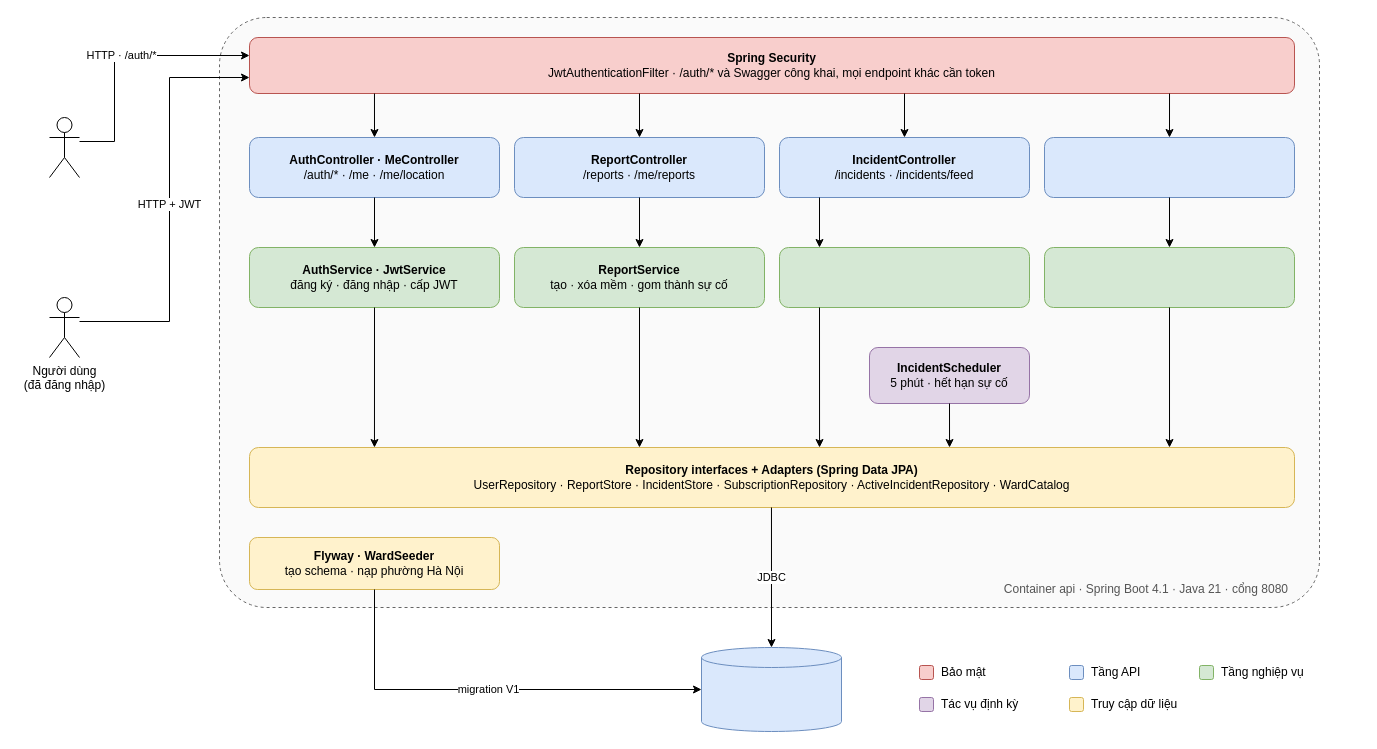
Image size: 1377x749. Some labels were removed from this diagram. The shapes that lost their labels are listed below. From the top down, each one's centre as x and y in pixels, then its label:
pixel 64 147: Khách (chưa đăng nhập)
pixel 1169 167: Subscription · Feed · Ward /me/subscriptions · /me/feed · /wards
pixel 904 277: IncidentService lọc · cập nhật · feed lân cận
pixel 1169 277: Subscription · Feed · WardService theo dõi phường · bảng tin
pixel 771 689: PostgreSQL 18 container db
